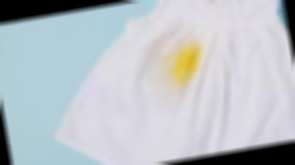mustard: (167, 37, 209, 89)
